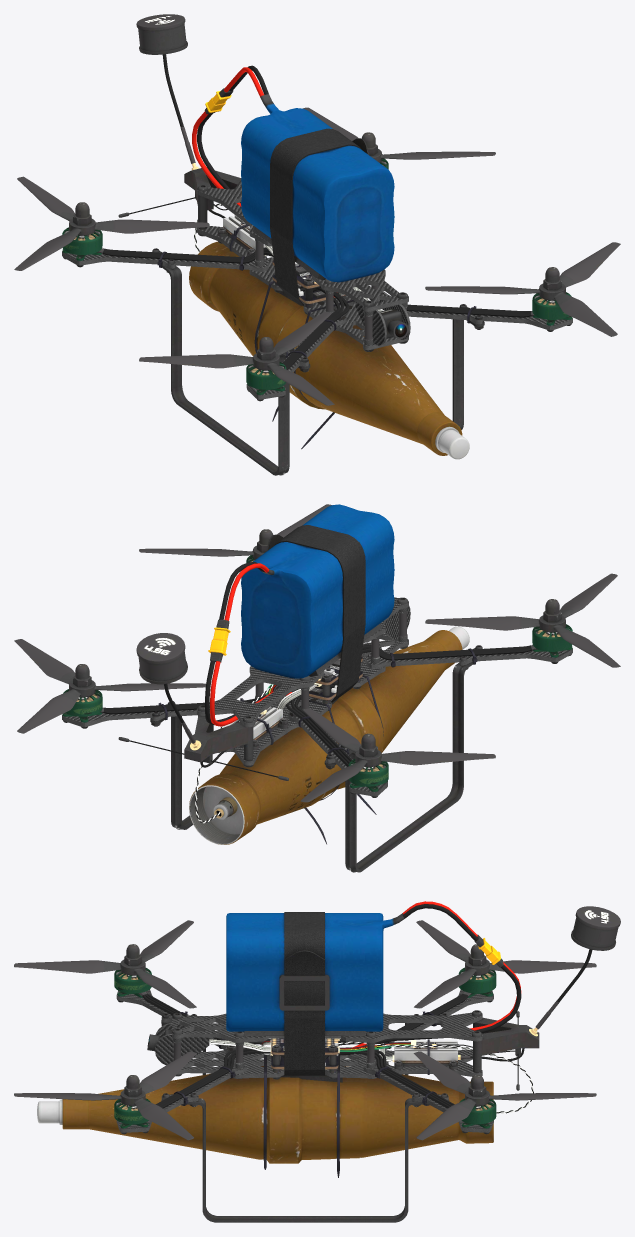
Rendered from fpv_drone.glb.
The picture shows the model from 3 angles, top to bottom: view 1: azimuth 30°, elevation 25°; view 2: azimuth 150°, elevation 25°; view 3: azimuth 270°, elevation 25°; orthographic projection. The views are drawn at different scales.
Visible parts, largest first — view 1: Object_4, Object_5, Object_6, Object_7; view 2: Object_4, Object_5, Object_6, Object_7, Object_3; view 3: Object_4, Object_6, Object_5, Object_7, Object_3.
Boxes of the visible parts, box(x1,y1,x2,y2) form: Object_4: box(189, 65, 469, 459); Object_5: box(14, 176, 484, 475); Object_6: box(118, 14, 620, 336); Object_7: box(62, 247, 572, 401); Object_4: box(189, 504, 469, 844); Object_5: box(150, 573, 620, 872); Object_6: box(14, 504, 331, 780); Object_7: box(62, 644, 572, 797); Object_3: box(62, 558, 572, 791); Object_4: box(37, 901, 533, 1177); Object_6: box(14, 906, 620, 1140); Object_5: box(14, 920, 596, 1222); Object_7: box(116, 989, 493, 1134); Object_3: box(117, 971, 492, 1128).
Size of what is drawn, in the model's own units: 0.4763 by 0.2915 by 0.5554.
Materials: 1 (1 with a texture image).
